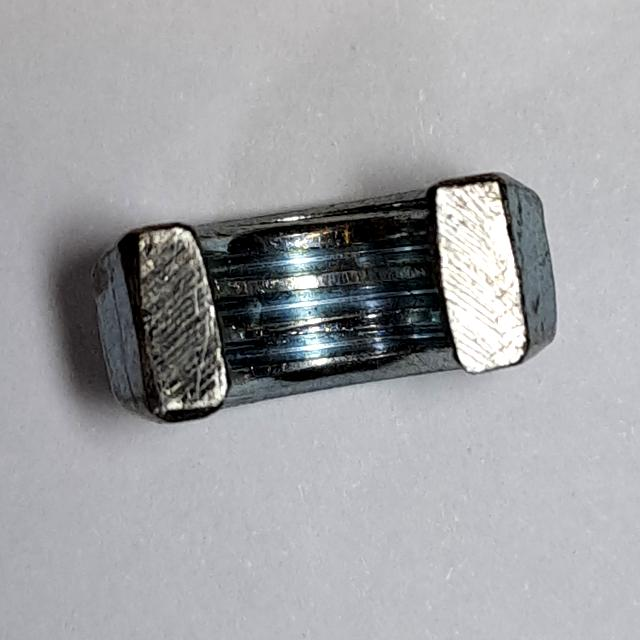Side-Fracture: (76, 154, 583, 454)
